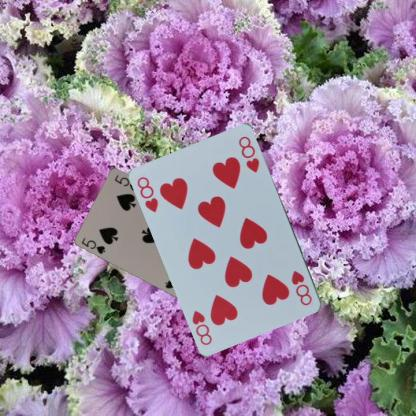5s: (79, 235, 107, 256)
8h: (135, 174, 160, 214), (289, 268, 314, 307)
